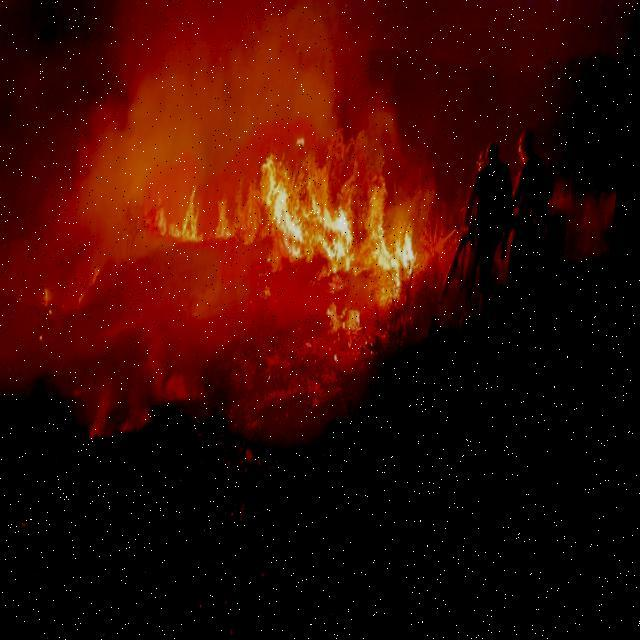Fire: (152, 176, 438, 290), (332, 297, 374, 339), (49, 284, 58, 308)
